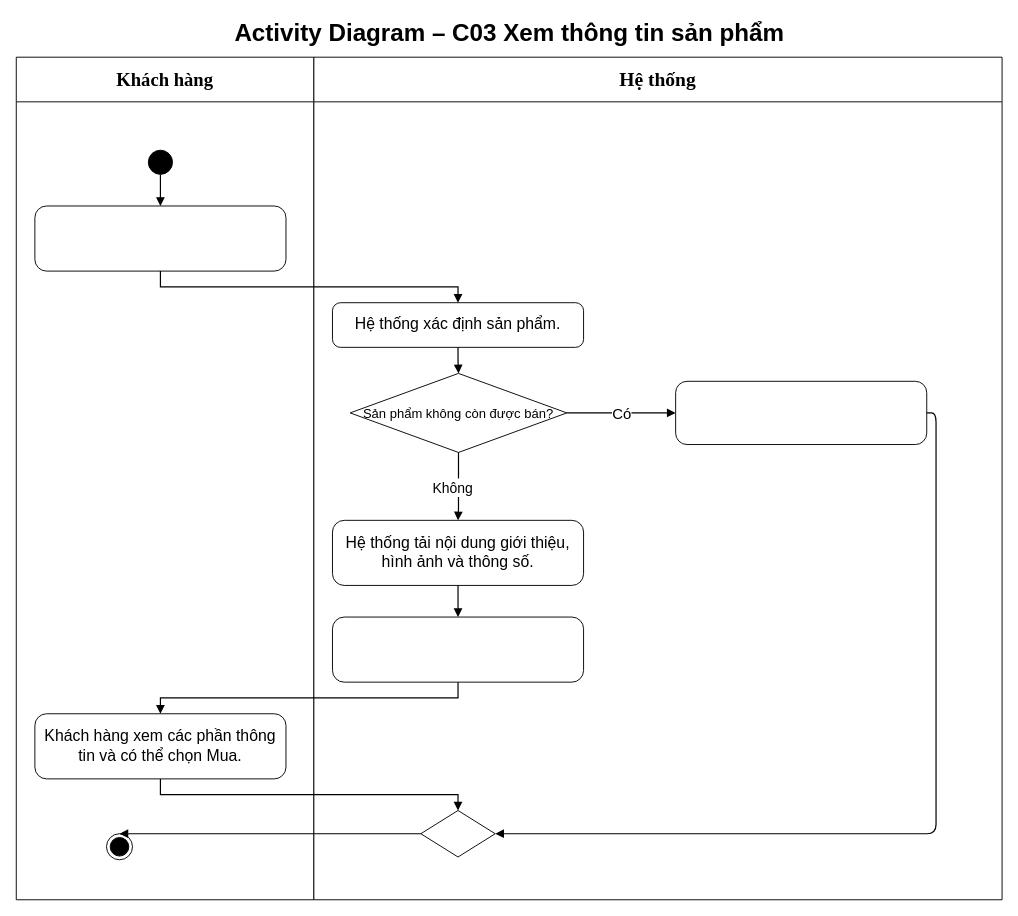
Some shapes in this 1018 by 916 pixel diagram are drawn without their labels. The shapes that lost their labels are listed below. From the top down, each one's centre as x and y in pixels, then its label:
pixel 160 238: Khách hàng chọn Tìm hiểu thêm.
pixel 801 412: Chỉ hiển thị trang thông tin hoặc gợi ý sản phẩm hiện hành
pixel 458 649: Hệ thống hiển thị trang chi tiết sản phẩm.
